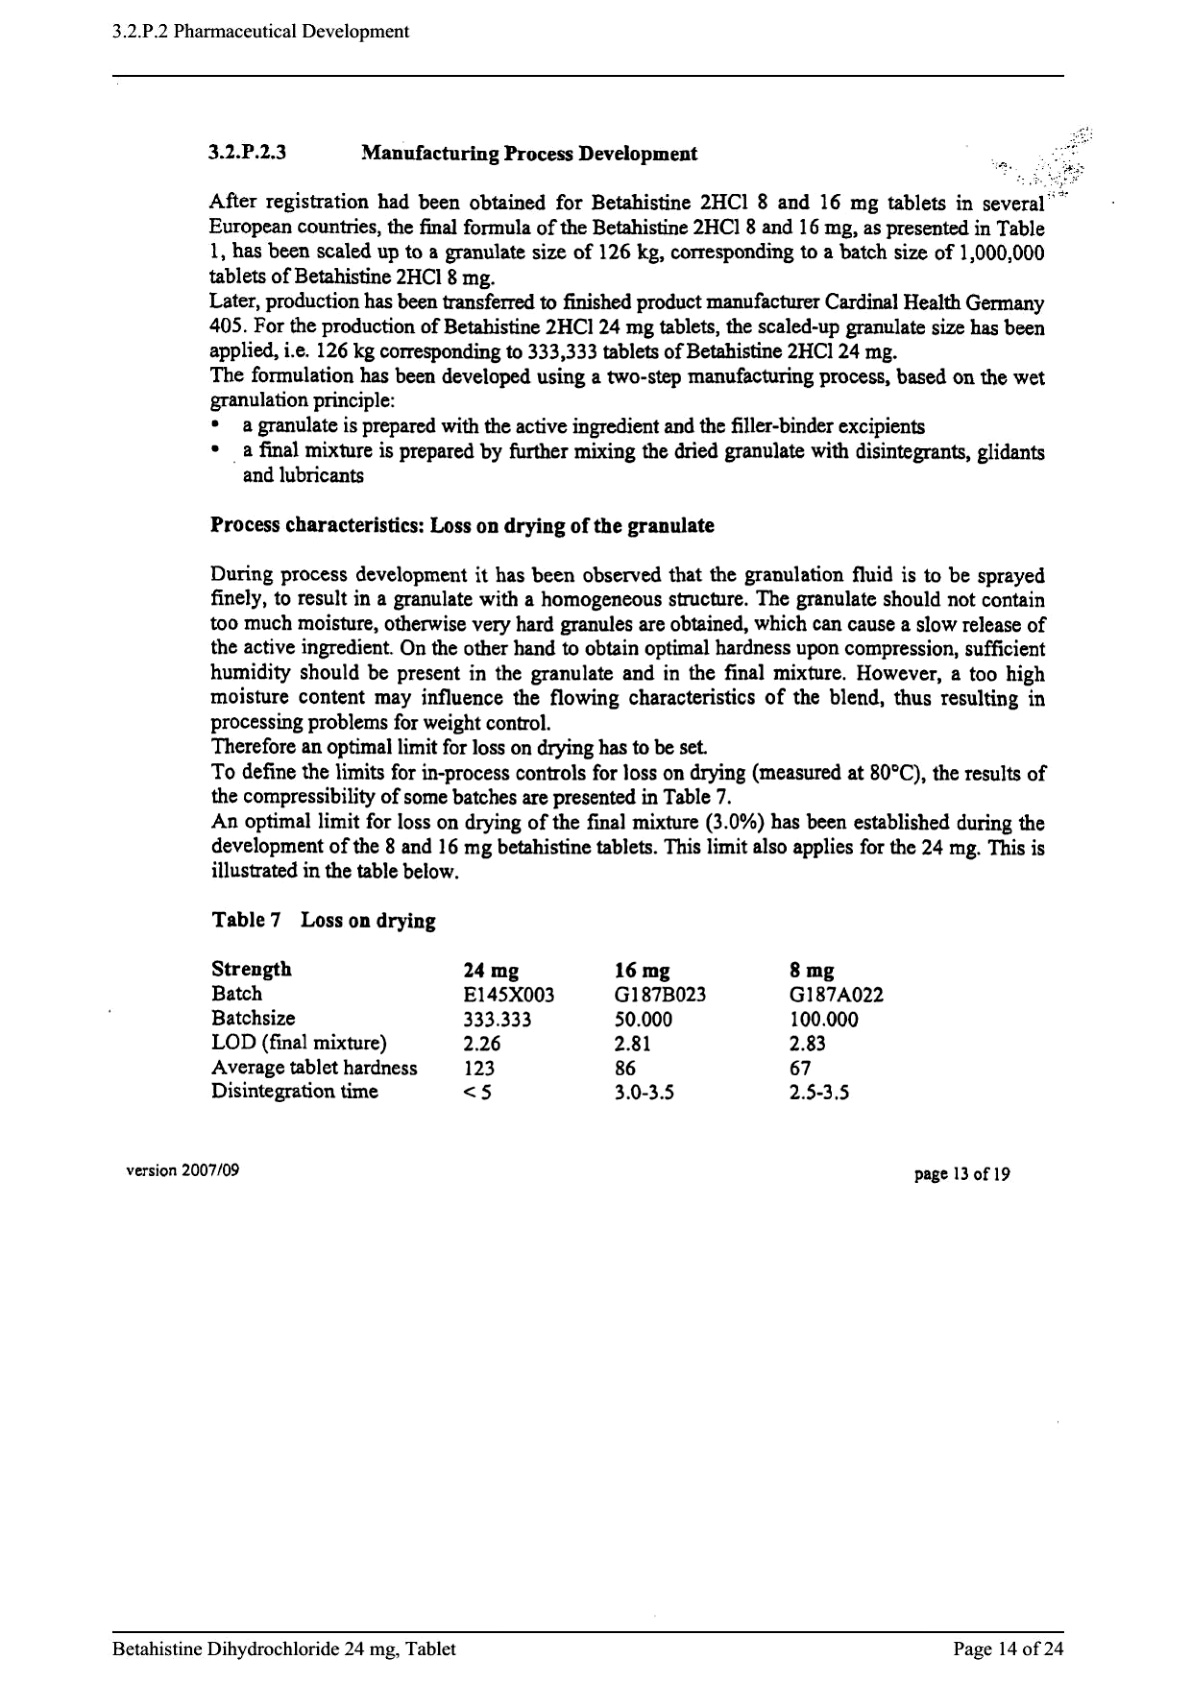nolines: (204, 955, 889, 1107)
